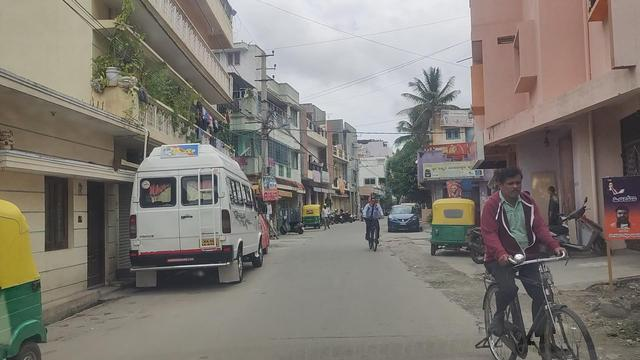HMV: (133, 155, 256, 281)
LMV: (483, 173, 573, 360), (365, 197, 380, 249)
RoadDamages: (390, 240, 422, 271), (423, 278, 461, 300)
